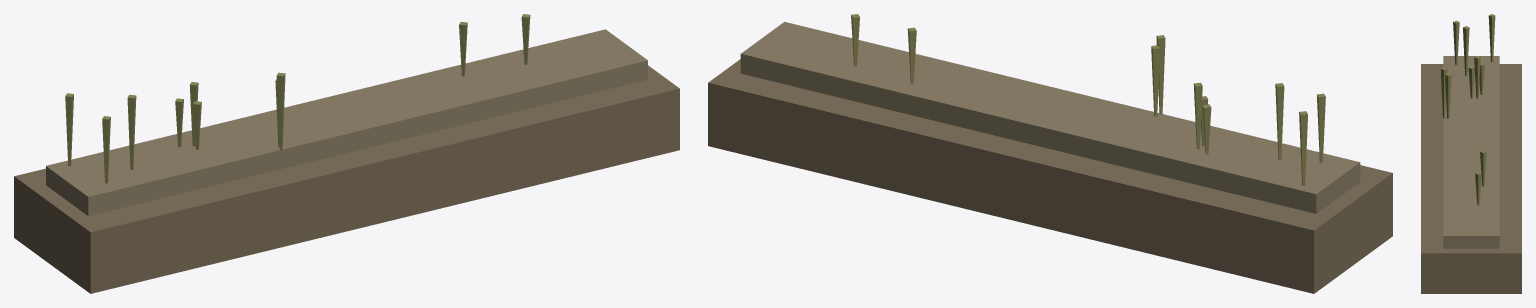
File: salt_dike.glb
3 views of the same model, side by side, from view 1: azimuth 30°, elevation 25°; view 2: azimuth 150°, elevation 25°; view 3: azimuth 270°, elevation 25° (orthographic). The views are drawn at different scales.
Parts seen in each view (by area): view 1: salt_dike; view 2: salt_dike; view 3: salt_dike.
Boxes of the visible parts, <box> form: salt_dike: <box>14,14,679,293</box>; salt_dike: <box>708,14,1392,293</box>; salt_dike: <box>1421,14,1521,293</box>.
Size of the model in its own units: 4 by 1.01 by 0.9.
